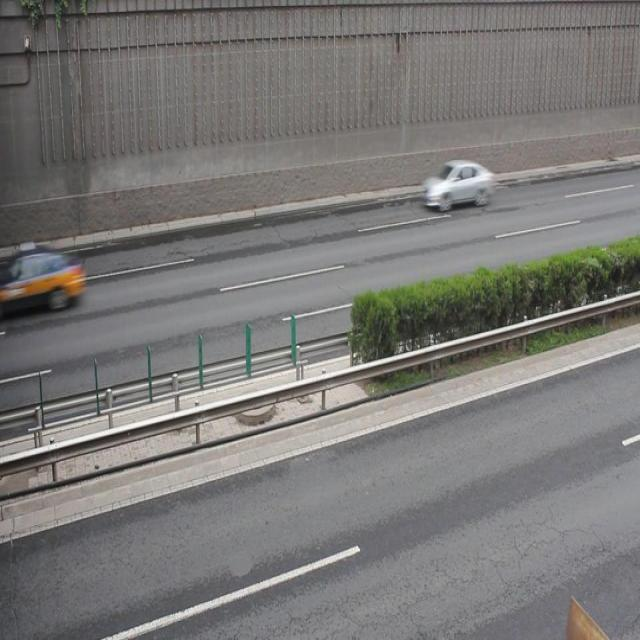car: (11, 244, 85, 313), (422, 157, 494, 207)
